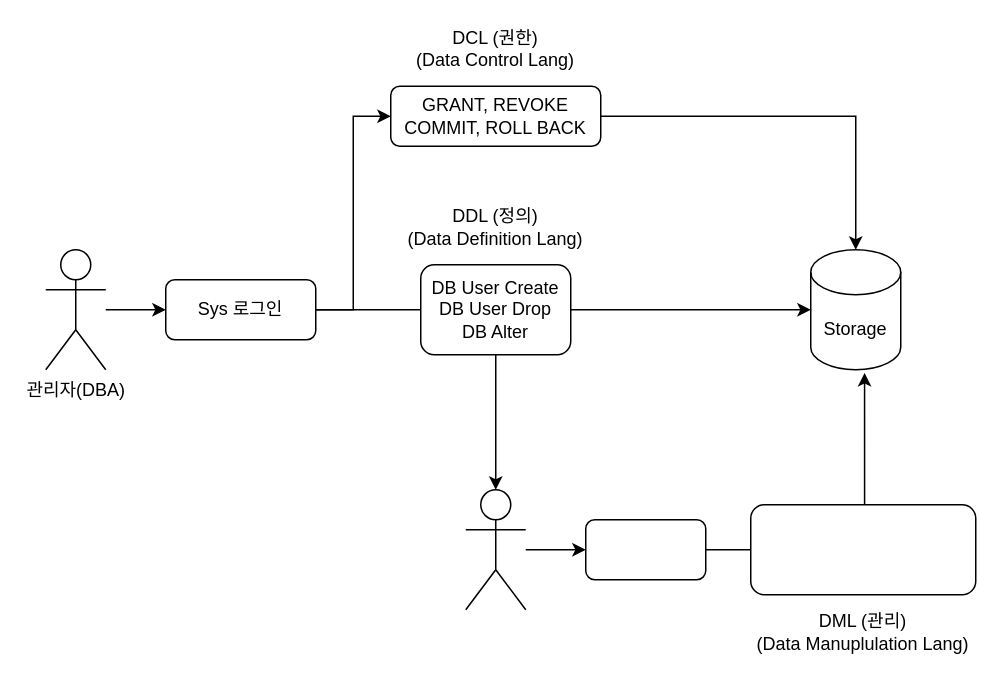
The diagram is 1002 pixels wide and 680 high, and some of its shapes have lost their labels. The box of each missing label's shape, as (x1, y1, x2, y2) in pixels:
CREATE : INSERT READ : SELECT UPDATE : UPDATE DELETE : DELETE: (749, 503, 976, 595)
User 로그인: (584, 518, 706, 580)
유저(User): (464, 488, 526, 610)
